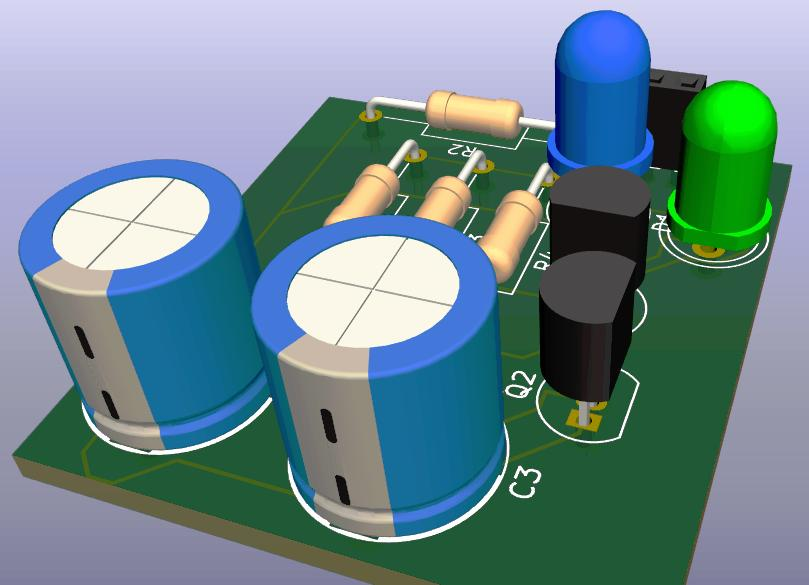blue_led: (549, 8, 651, 182)
capacitor: (252, 215, 505, 540), (15, 158, 275, 451)
green_led: (666, 80, 776, 252)
resistor: (475, 189, 541, 282), (324, 155, 408, 228), (425, 87, 524, 140), (412, 177, 469, 228), (392, 195, 410, 215)
transistor: (536, 250, 638, 410), (549, 161, 657, 282)
